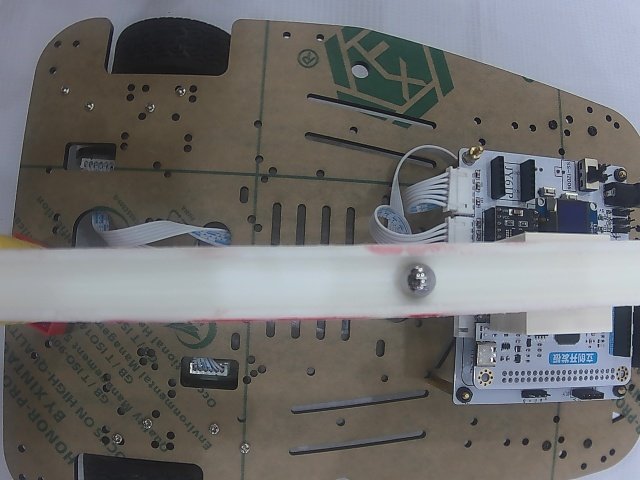steelball: (399, 262, 435, 295)
